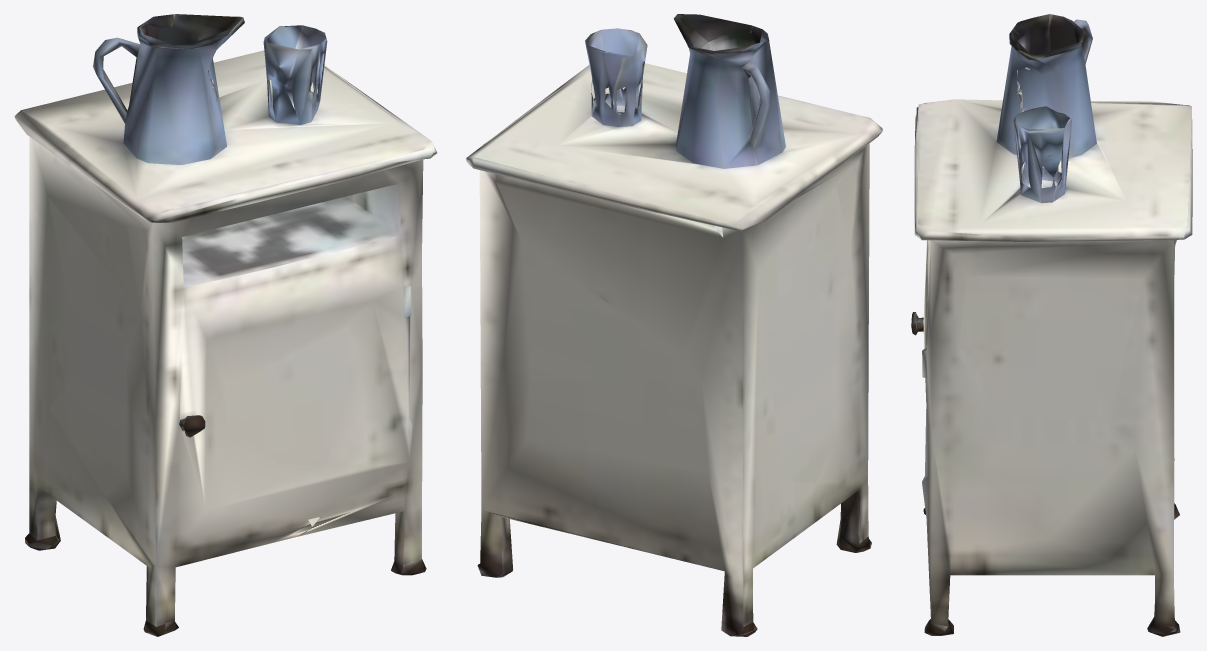
Rendered from velador_blanco.movil.glb.
3 renders of one model, left to right at view 1: azimuth 30°, elevation 25°; view 2: azimuth 150°, elevation 25°; view 3: azimuth 270°, elevation 25°, orthographic. The views are drawn at different scales.
Parts seen in each view (by area): view 1: geometry_0; view 2: geometry_0; view 3: geometry_0.
Part boxes in pixels (<box>): geometry_0: <box>14,14,437,636</box>; geometry_0: <box>466,14,882,636</box>; geometry_0: <box>911,14,1192,636</box>.
Size of the model in its own units: 0.4488 by 0.7999 by 0.393.
Materials: 1 (1 with a texture image).
